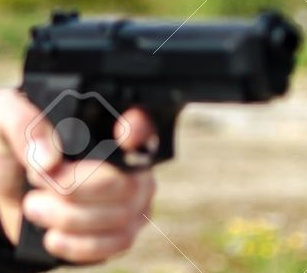pistol: (6, 4, 307, 270)
